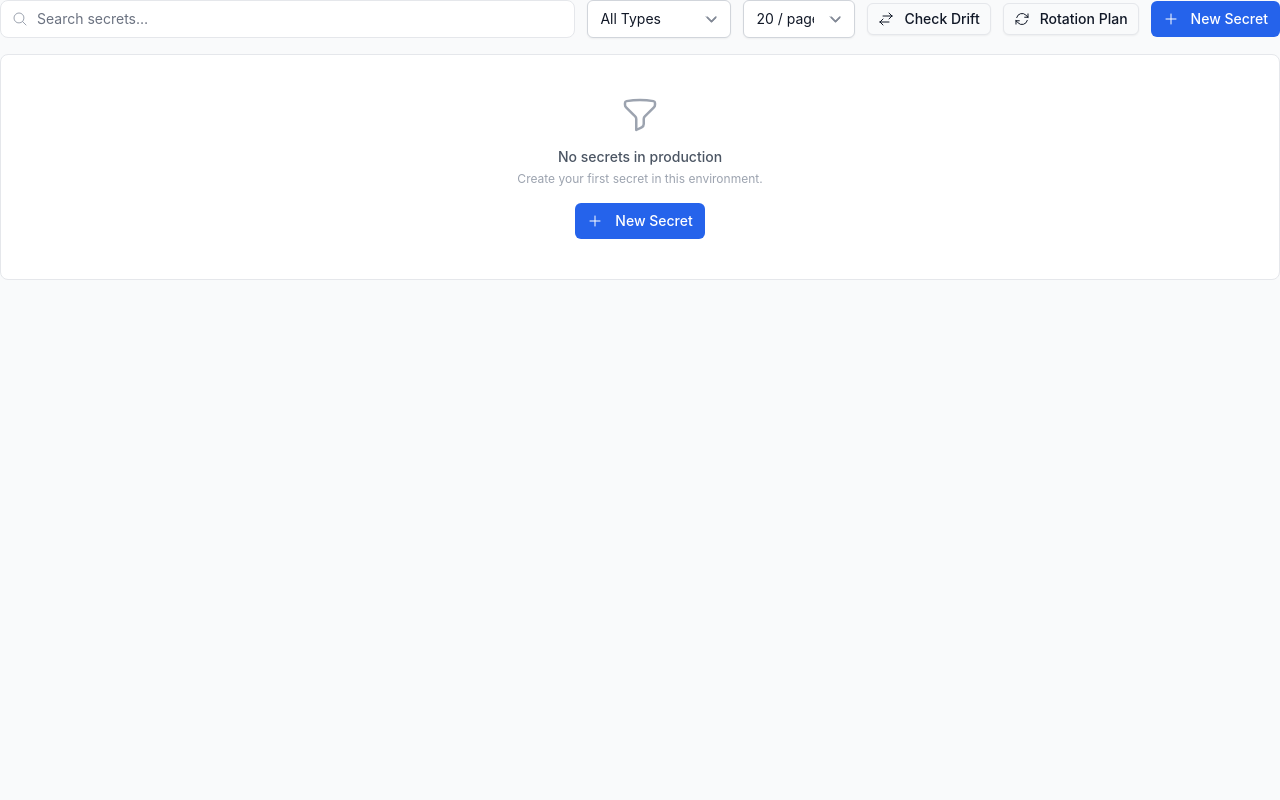
ProjectSecretsTab — create modal extras › falls back to a generic message when the create error is not an Error instance
The width and height of the screenshot is (1280, 800).
Click the 1st button "New Secret".
click(1215, 19)  # box x1=1151 y1=1 x2=1279 y2=37
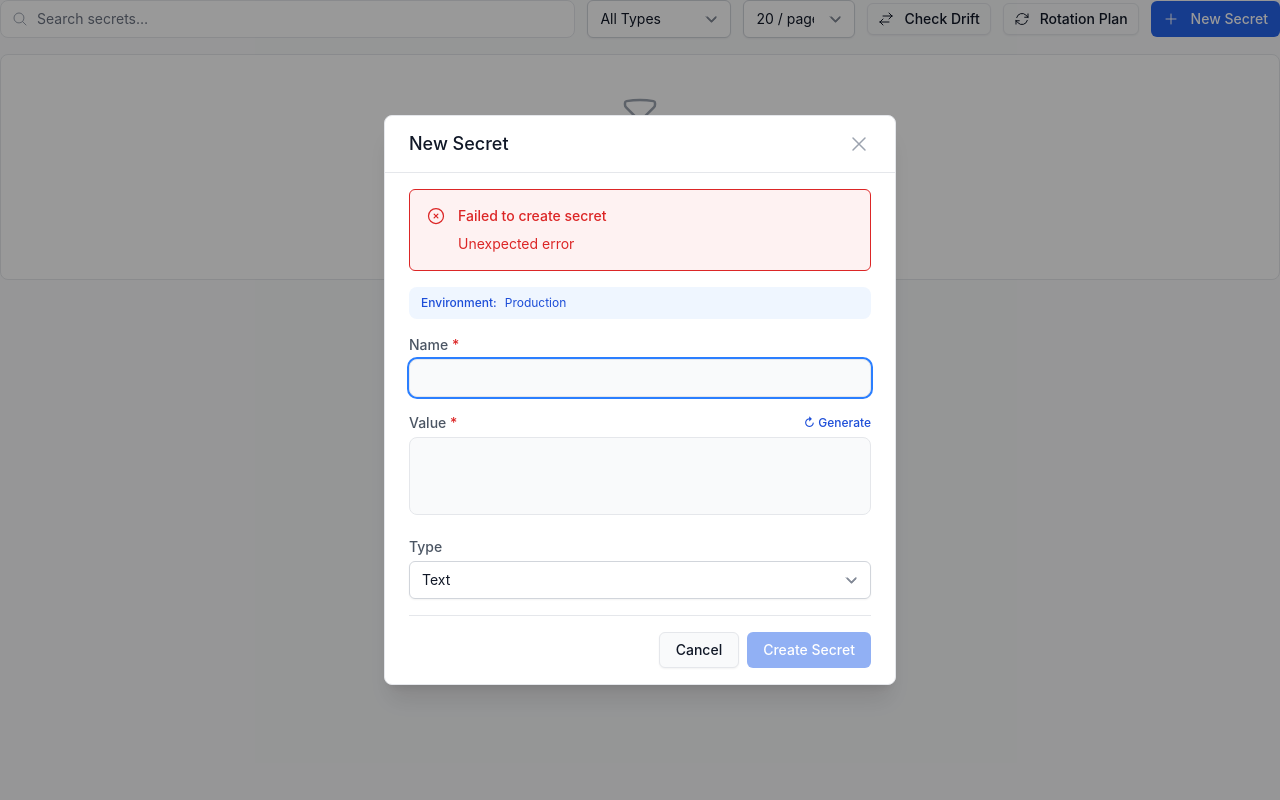
Expected: the text "Unexpected error" is shown, x1=458 y1=235 x2=574 y2=252
